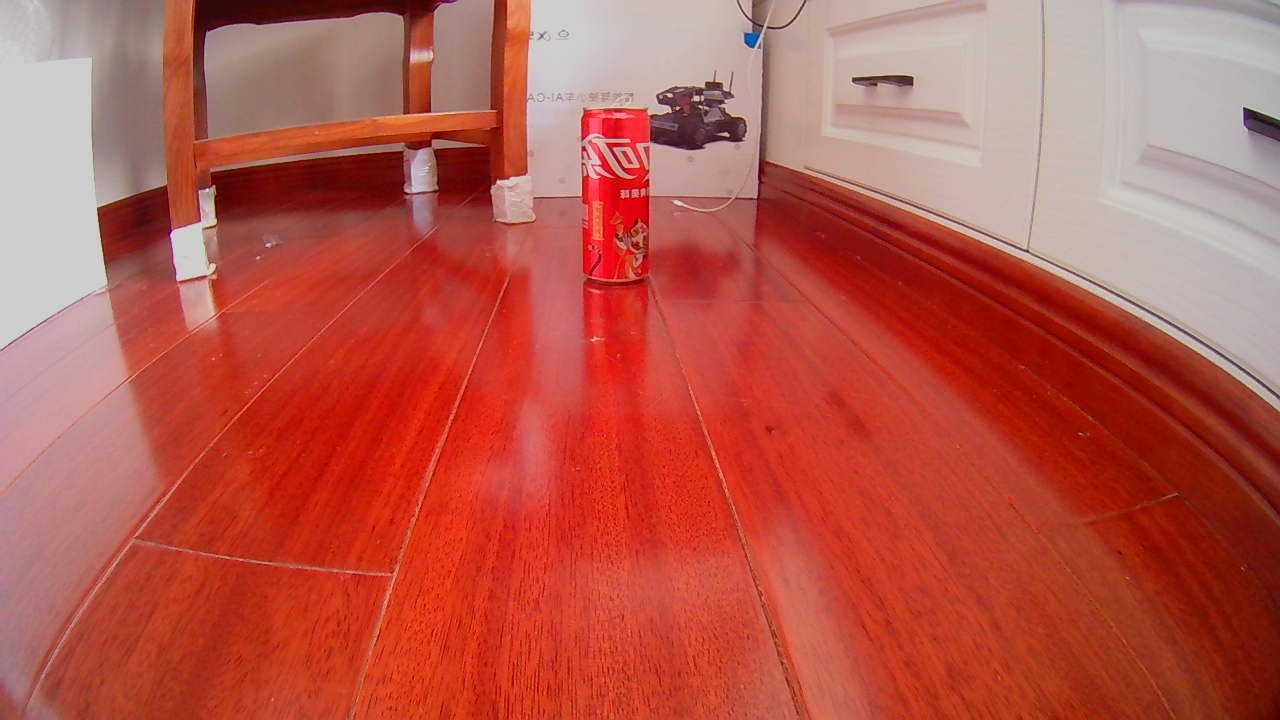cola: (580, 107, 649, 283)
